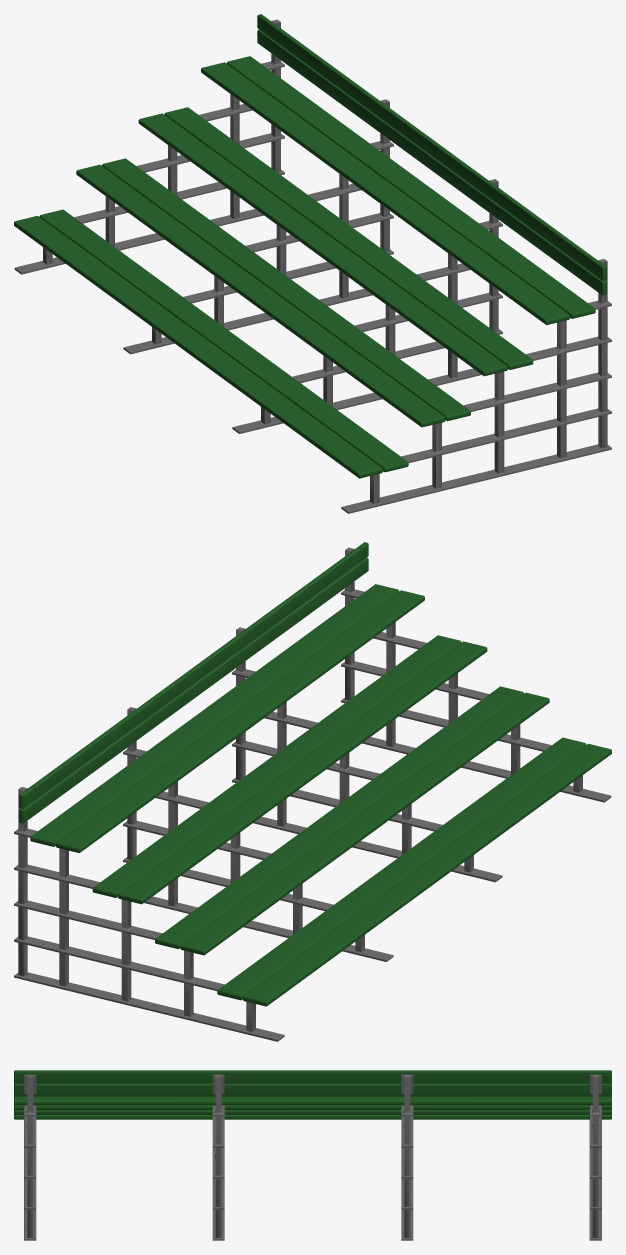
Rendered from SM_H_Building_Tide_PrisonMain_Tower_01b_ATLAS.fbx.
The picture shows the model from 3 angles, top to bottom: view 1: azimuth 30°, elevation 25°; view 2: azimuth 150°, elevation 25°; view 3: azimuth 270°, elevation 25°; orthographic projection. The views are drawn at different scales.
Parts seen in each view (by area): view 1: SM_H_Building_Tide_PrisonMain_Tower_01b_ATLAS; view 2: SM_H_Building_Tide_PrisonMain_Tower_01b_ATLAS; view 3: SM_H_Building_Tide_PrisonMain_Tower_01b_ATLAS.
Part boxes in pixels (box(x1,y1,x2,y2)): SM_H_Building_Tide_PrisonMain_Tower_01b_ATLAS: box(14, 14, 611, 513); SM_H_Building_Tide_PrisonMain_Tower_01b_ATLAS: box(14, 542, 611, 1041); SM_H_Building_Tide_PrisonMain_Tower_01b_ATLAS: box(14, 1070, 611, 1240).
Size of the model in its own units: 262 by 594 by 180.
